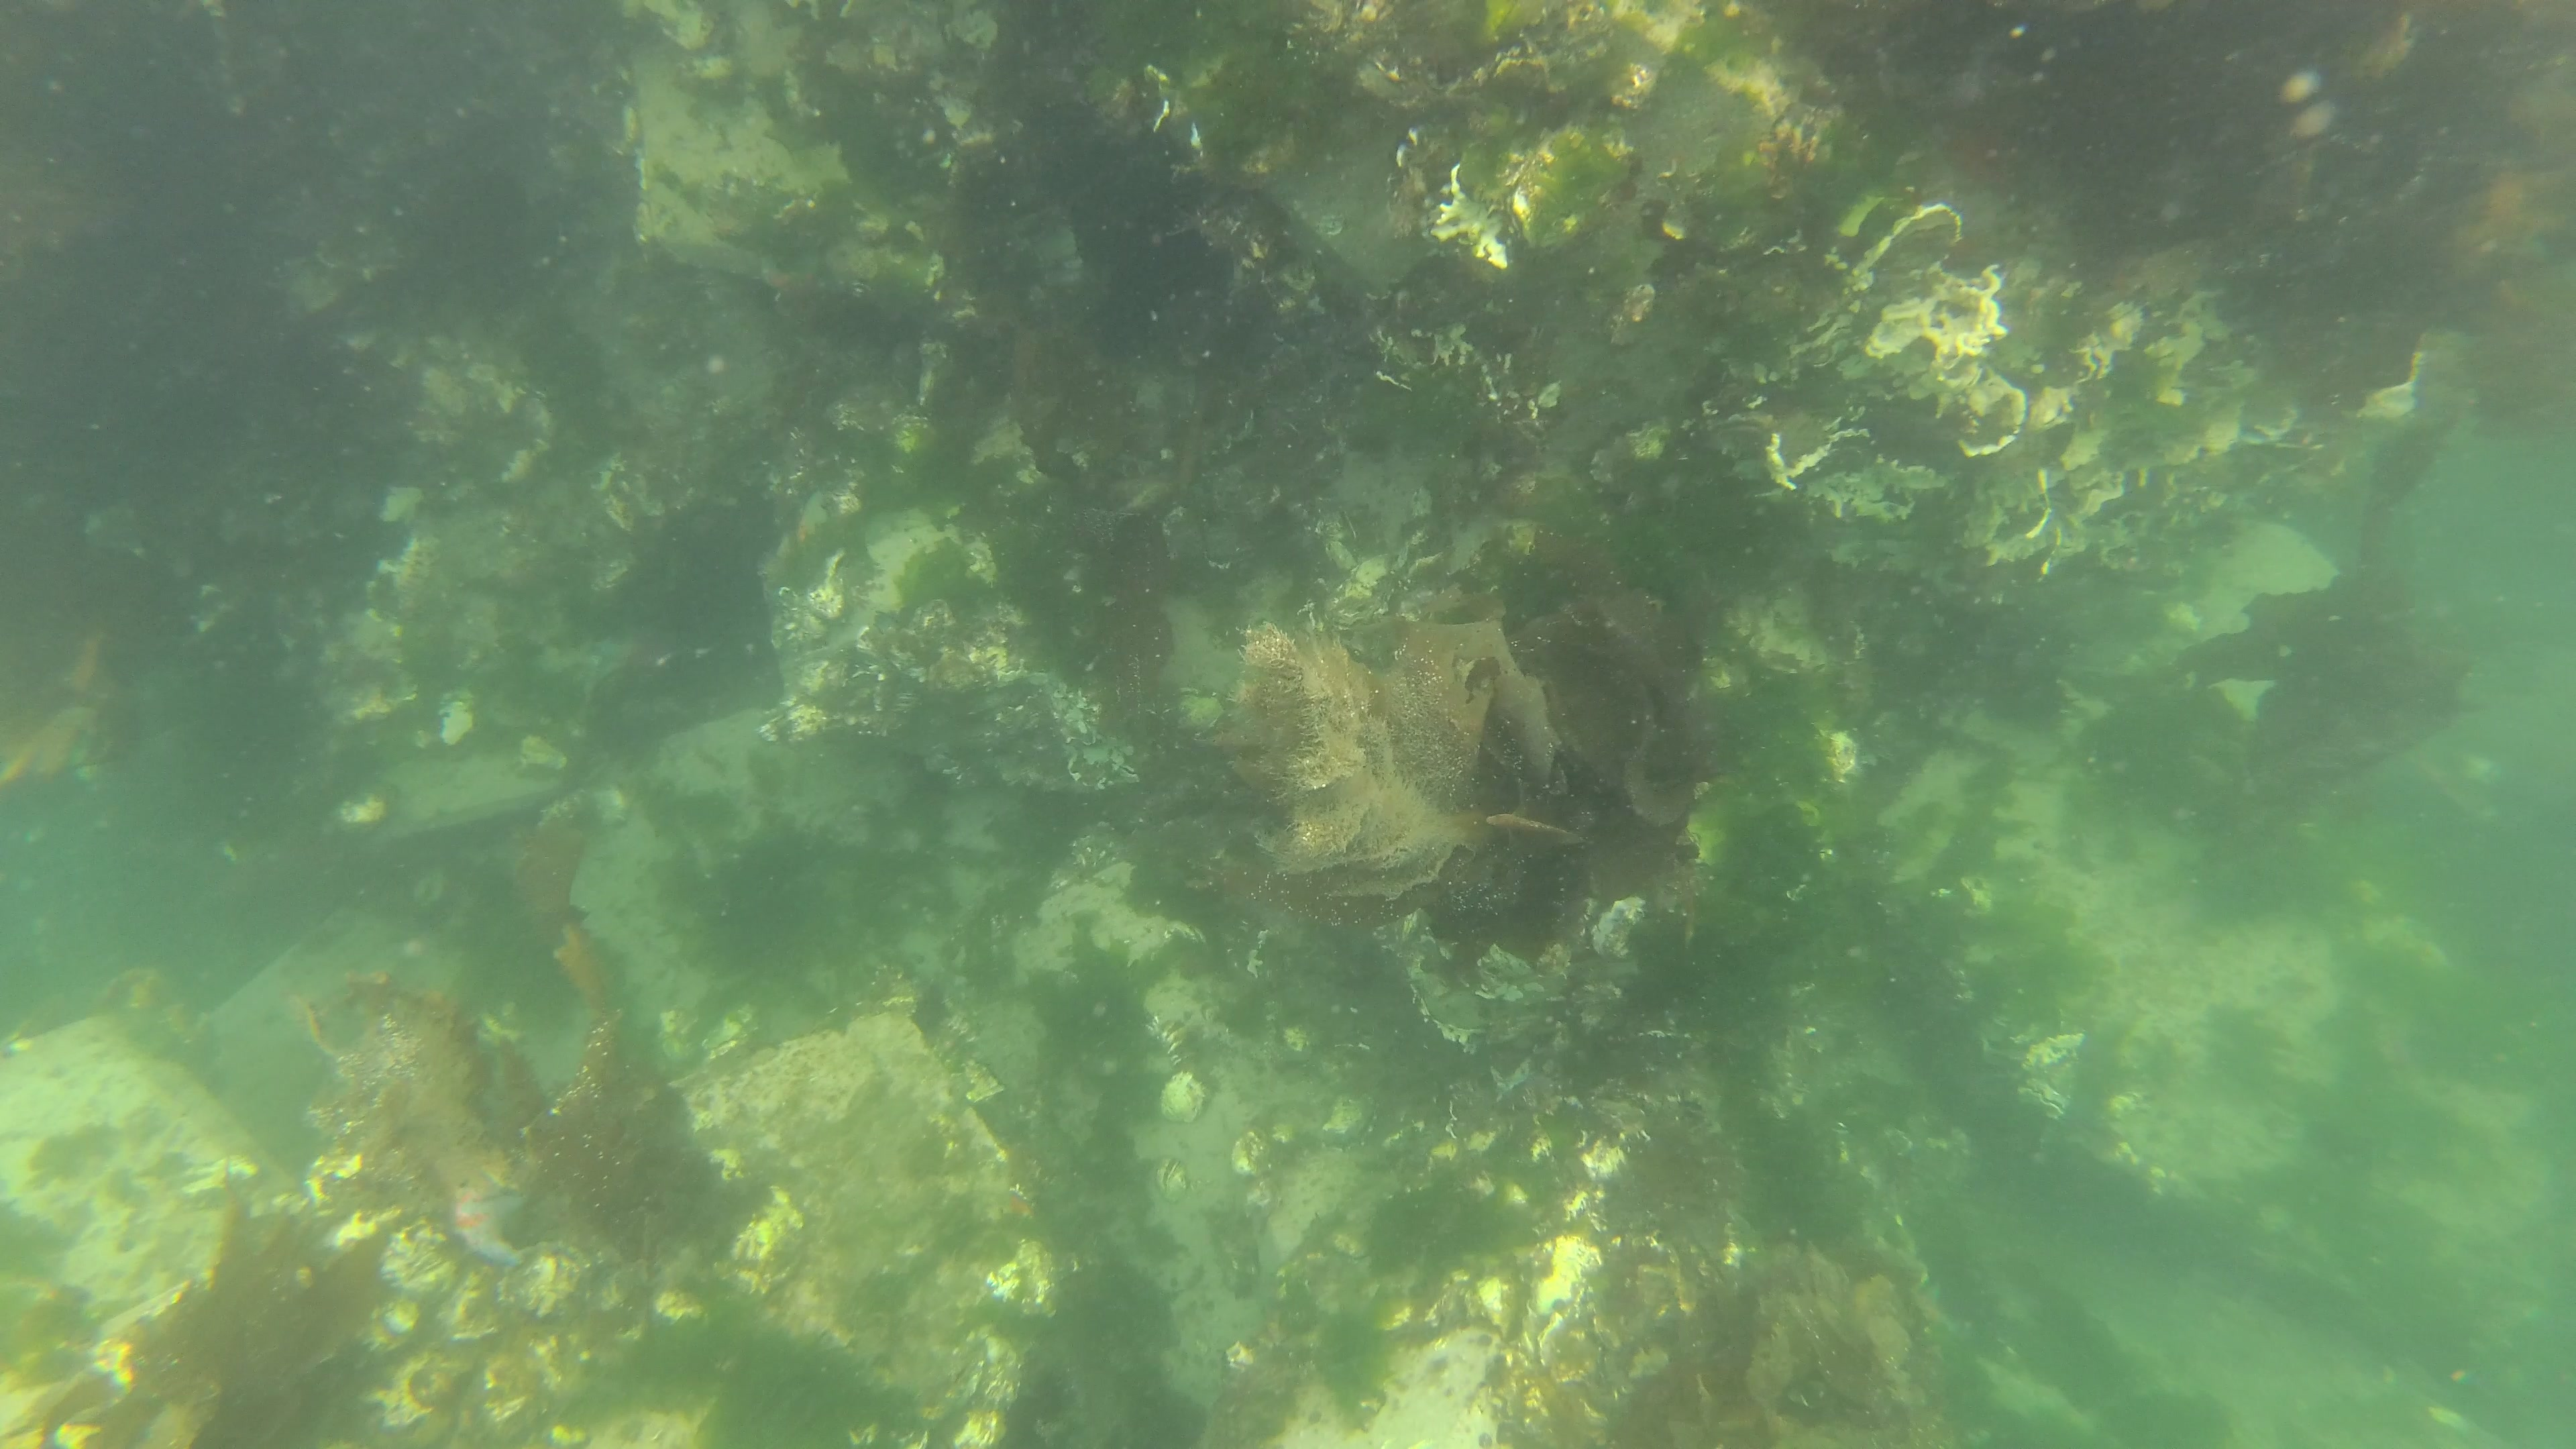starfish: (439, 1177, 538, 1272)
